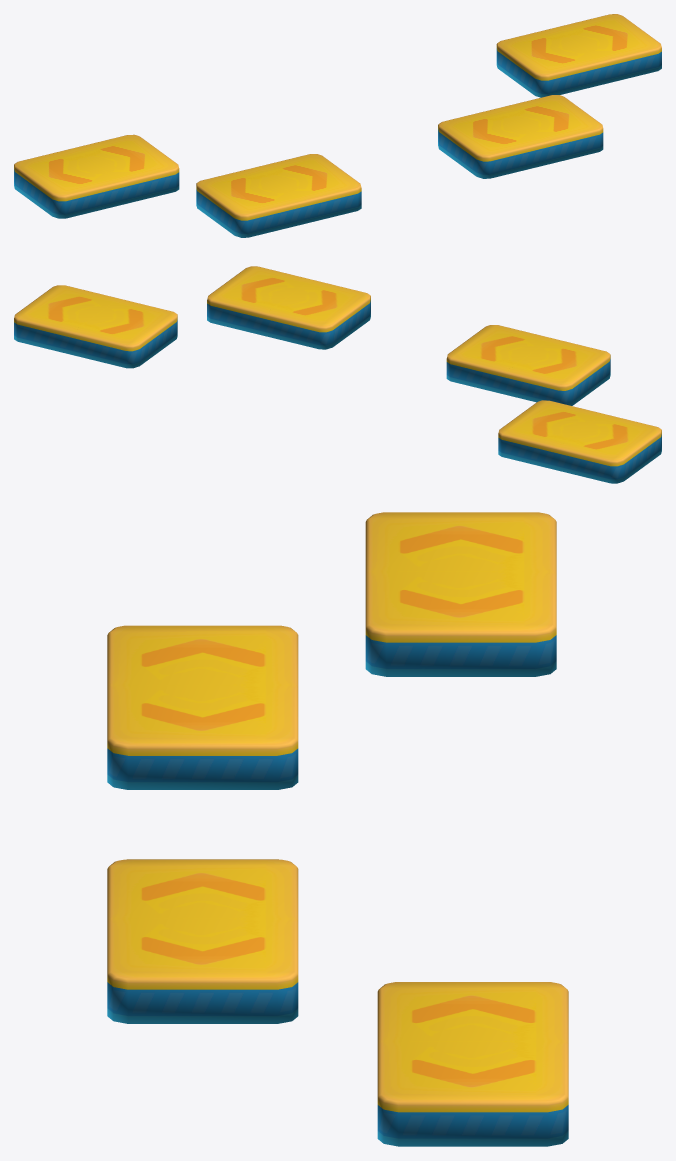
File: deslisado11.fbx
3 renders of one model, top to bottom at view 1: azimuth 30°, elevation 25°; view 2: azimuth 150°, elevation 25°; view 3: azimuth 270°, elevation 25°, orthographic. The views are drawn at different scales.
Parts seen in each view (by area): view 1: MovingPlatform (1).003_MovingPlatform_0, MovingPlatform (1).002_MovingPlatform_0, MovingPlatform (1).004_MovingPlatform_0, MovingPlatform (1)_MovingPlatform_0; view 2: MovingPlatform (1).002_MovingPlatform_0, MovingPlatform (1).004_MovingPlatform_0, MovingPlatform (1)_MovingPlatform_0, MovingPlatform (1).003_MovingPlatform_0; view 3: MovingPlatform (1).002_MovingPlatform_0, MovingPlatform (1).003_MovingPlatform_0, MovingPlatform (1).004_MovingPlatform_0, MovingPlatform (1)_MovingPlatform_0.
Part boxes in pixels (x1=…): MovingPlatform (1).003_MovingPlatform_0: x1=196, y1=154, x2=361, y2=237; MovingPlatform (1).002_MovingPlatform_0: x1=438, y1=95, x2=603, y2=178; MovingPlatform (1).004_MovingPlatform_0: x1=14, y1=134, x2=179, y2=218; MovingPlatform (1)_MovingPlatform_0: x1=496, y1=14, x2=661, y2=97; MovingPlatform (1).002_MovingPlatform_0: x1=207, y1=266, x2=370, y2=349; MovingPlatform (1).004_MovingPlatform_0: x1=498, y1=400, x2=661, y2=483; MovingPlatform (1)_MovingPlatform_0: x1=14, y1=285, x2=177, y2=368; MovingPlatform (1).003_MovingPlatform_0: x1=446, y1=325, x2=610, y2=405; MovingPlatform (1).002_MovingPlatform_0: x1=107, y1=859, x2=298, y2=1023; MovingPlatform (1).003_MovingPlatform_0: x1=107, y1=625, x2=298, y2=789; MovingPlatform (1).004_MovingPlatform_0: x1=365, y1=512, x2=556, y2=676; MovingPlatform (1)_MovingPlatform_0: x1=377, y1=982, x2=568, y2=1146.
Bounding box in the file's own units: 2144 × 74.86 × 707.
1 material, 1 textured.
